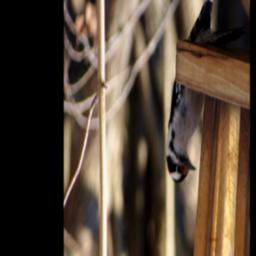Woodpecker: (166, 0, 246, 184)
